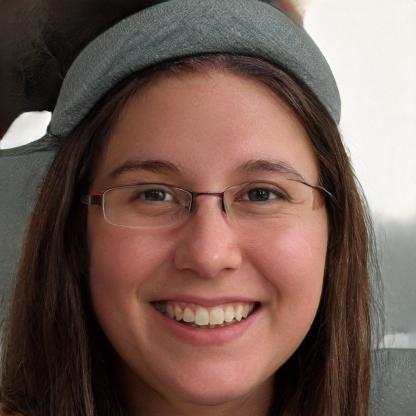glasses: (90, 176, 322, 235)
